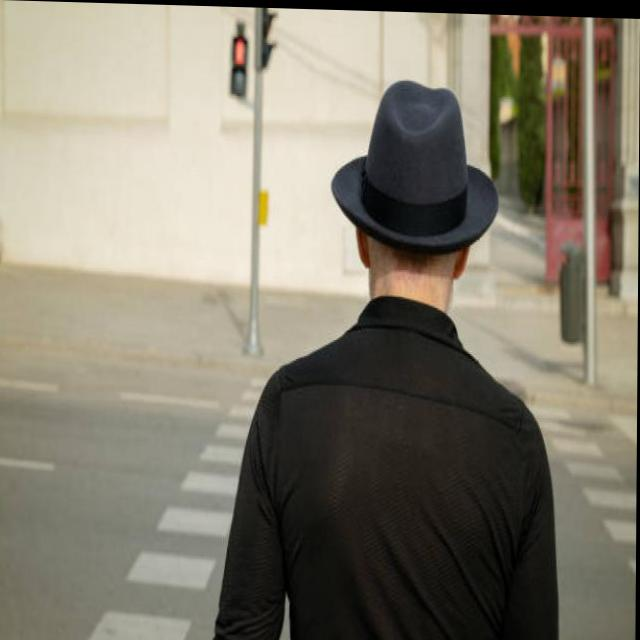no helmet: (323, 57, 519, 341)
